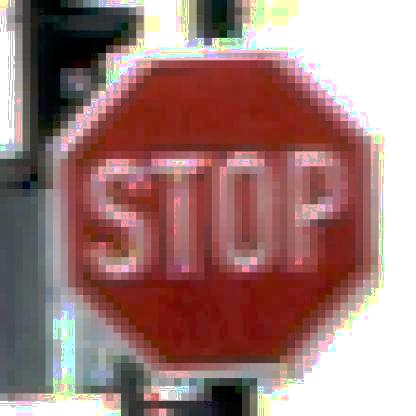Stop Sign: (41, 43, 380, 376)
